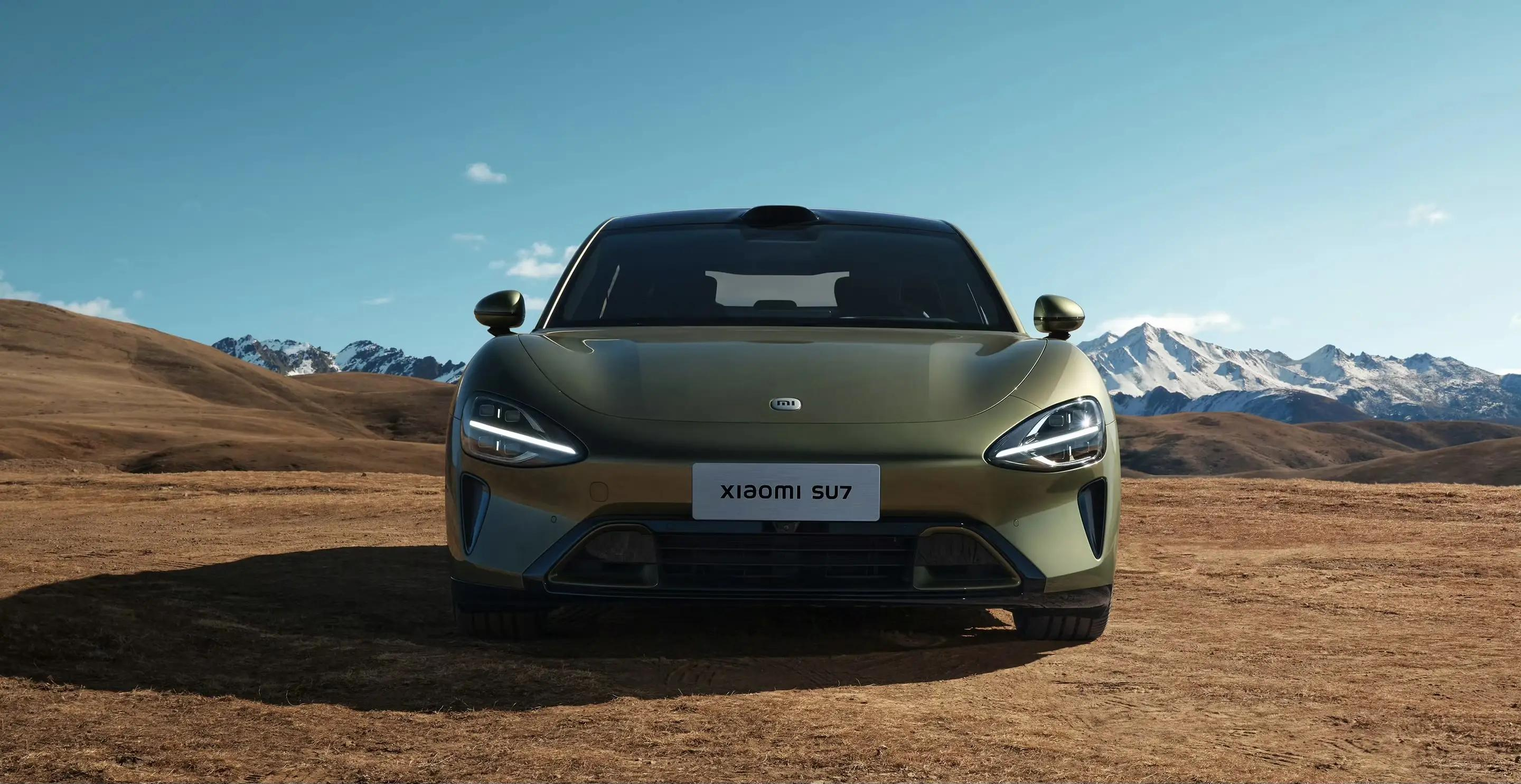XIAOMI: (771, 398, 801, 411)
